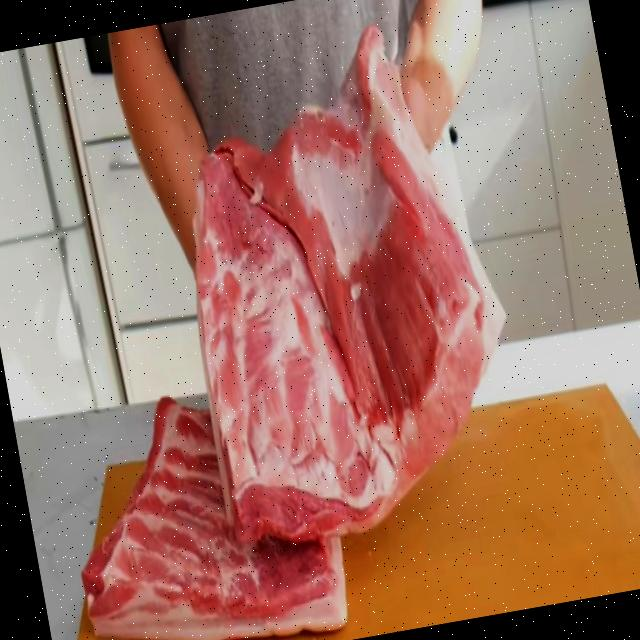meat: (154, 88, 519, 539), (68, 364, 365, 640)
